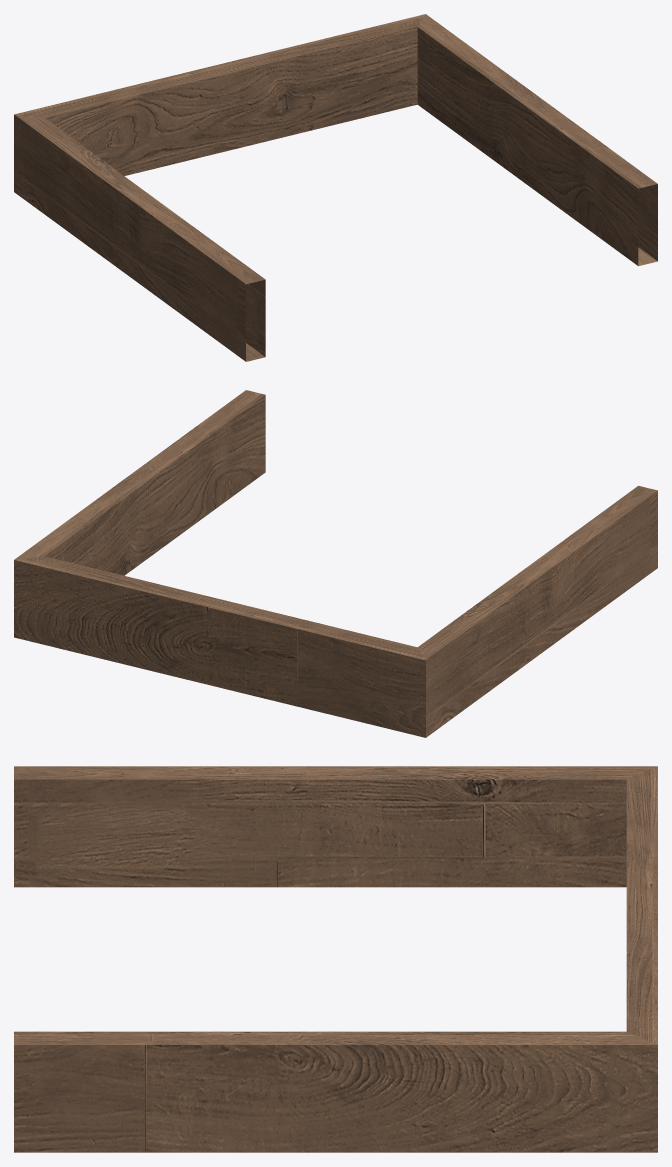
The model's file is FloorlineInt-U.fbx.
3 renders of one model, top to bottom at view 1: azimuth 30°, elevation 25°; view 2: azimuth 150°, elevation 25°; view 3: azimuth 270°, elevation 25°, orthographic. The views are drawn at different scales.
Parts seen in each view (by area): view 1: FloorlineInt-U; view 2: FloorlineInt-U; view 3: FloorlineInt-U.
Boxes of the visible parts, x1=… form: FloorlineInt-U: x1=14, y1=14, x2=657, y2=361; FloorlineInt-U: x1=14, y1=390, x2=657, y2=737; FloorlineInt-U: x1=14, y1=766, x2=657, y2=1152.
Bounding box in the file's own units: 210 × 37.8 × 205.
